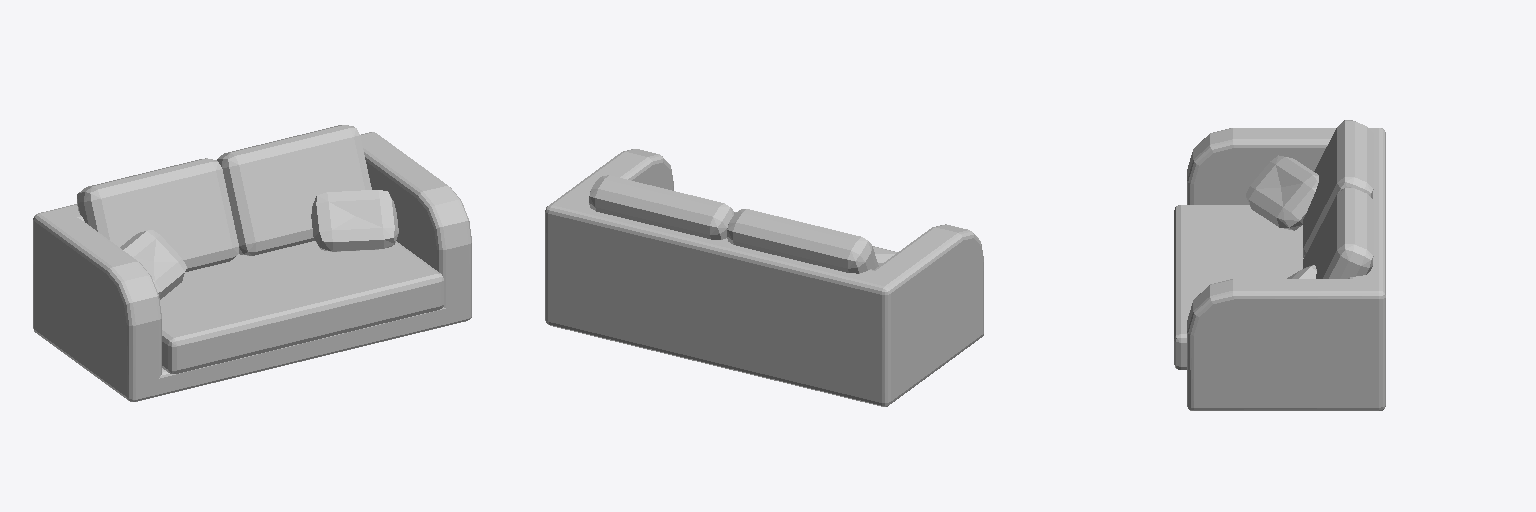
The model's file is couch_pillows.obj.
3 views of the same model, side by side, from view 1: azimuth 30°, elevation 25°; view 2: azimuth 150°, elevation 25°; view 3: azimuth 270°, elevation 25° (orthographic).
Parts seen in each view (by area): view 1: couch_pillows_Plane.004; view 2: couch_pillows_Plane.004; view 3: couch_pillows_Plane.004.
Part boxes in pixels (x1,y1,x2,y2): couch_pillows_Plane.004: (33, 125, 471, 401); couch_pillows_Plane.004: (545, 149, 983, 406); couch_pillows_Plane.004: (1174, 120, 1385, 410).
Size of the model in its own units: 3 by 1.22 by 1.6.